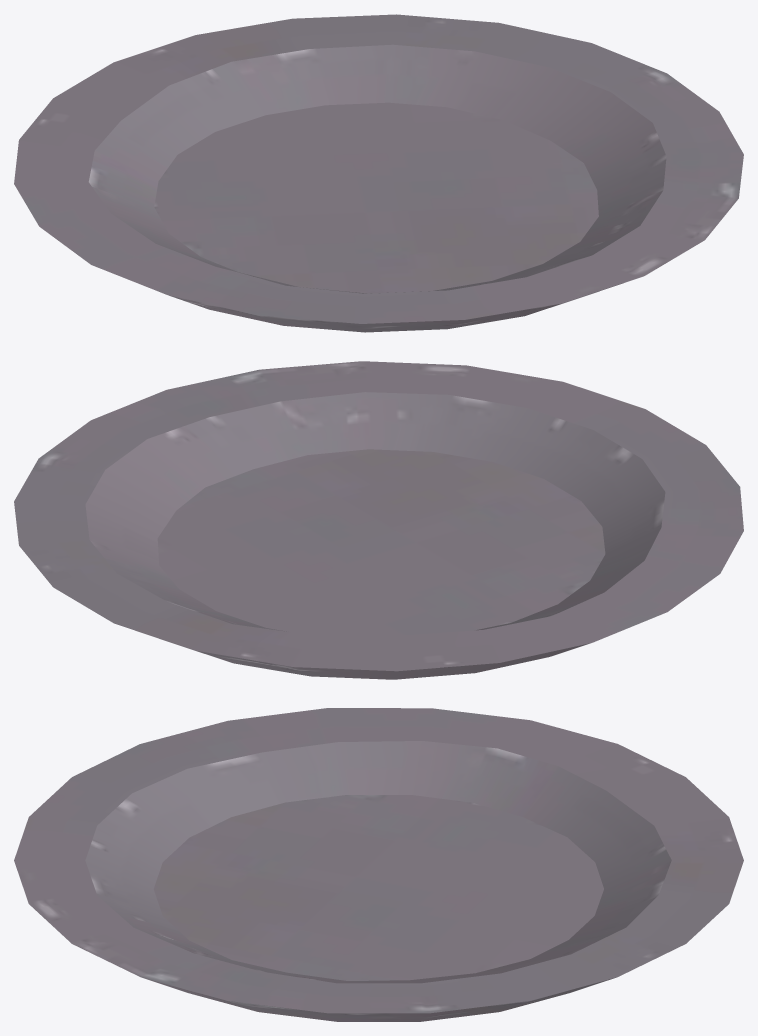
Rendered from Table_Plate.glb.
The picture shows the model from 3 angles, top to bottom: view 1: azimuth 30°, elevation 25°; view 2: azimuth 150°, elevation 25°; view 3: azimuth 270°, elevation 25°; orthographic projection.
Parts seen in each view (by area): view 1: Table_Plate; view 2: Table_Plate; view 3: Table_Plate.
Part boxes in pixels (box(x1,y1,x2,y2)): Table_Plate: box(14, 14, 743, 332); Table_Plate: box(14, 361, 743, 679); Table_Plate: box(14, 708, 743, 1021).
Size of the model in its own units: 0.3333 by 0.0202 by 0.3369.
1 material, 1 textured.
